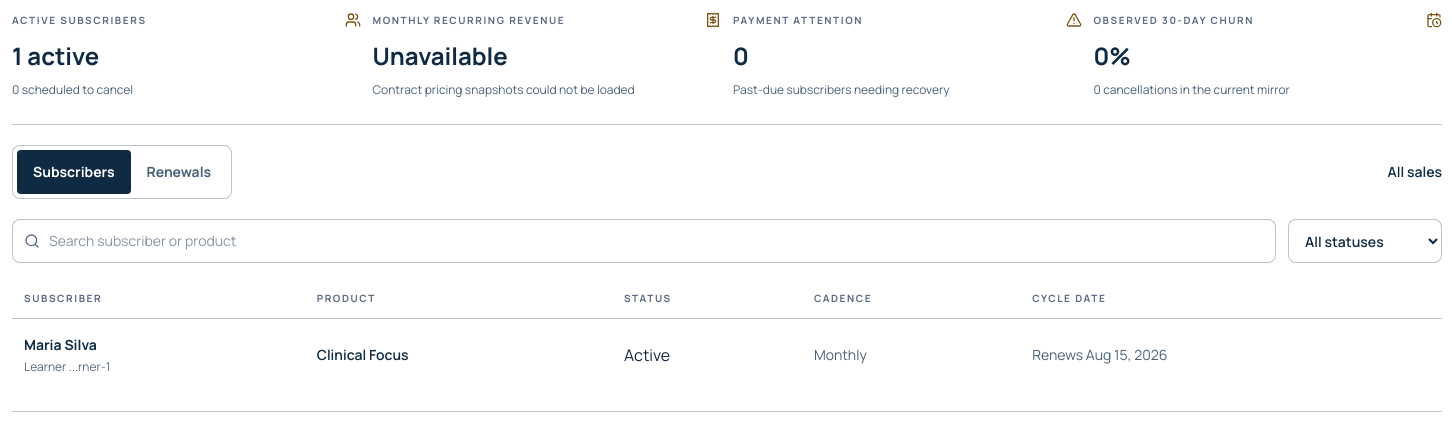
CreatorSubscriptionCenterView › marks financial metrics and renewals unavailable after a read failure
Expected: the text "Unavailable" is shown, left=372, top=39, right=508, bottom=72
Click the tab "Renewals": (179, 172) left=130, top=150, right=227, bottom=194
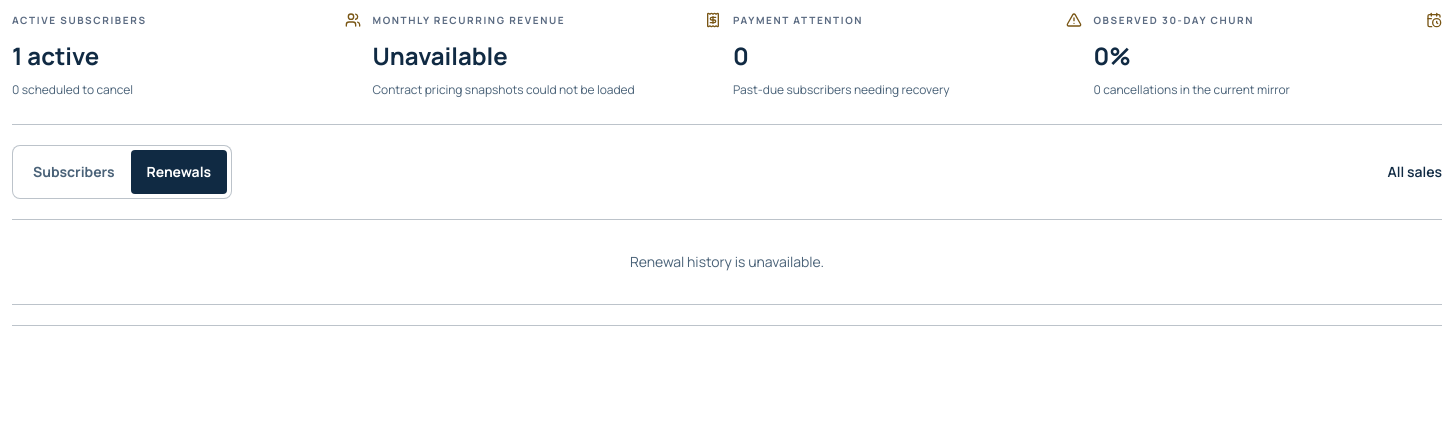
Now the text "Renewal history is unavailable." is shown, box left=12, top=219, right=1442, bottom=305
